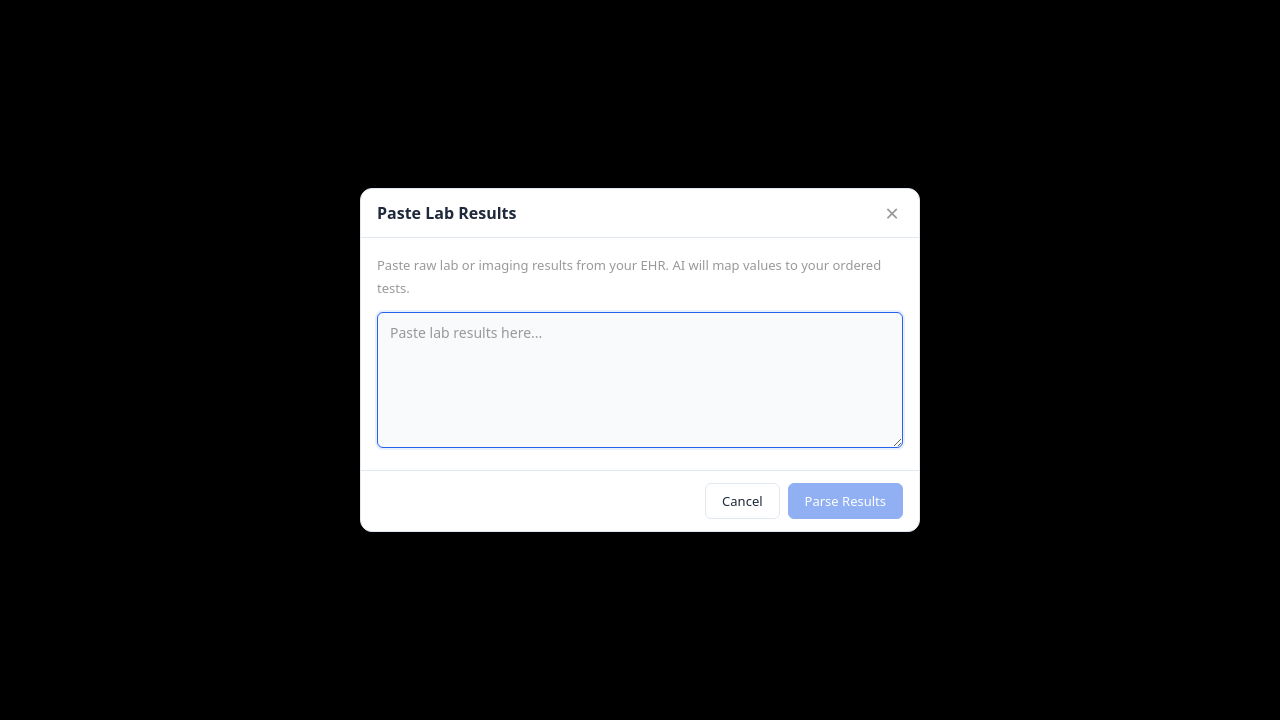
Test case: PasteLabModal › shows loading state while parsing
Type "CBC: 8500 WBC" into the text box with test id "paste-textarea" at x=640, y=380, box top-left (377, 312), bottom-right (903, 448)
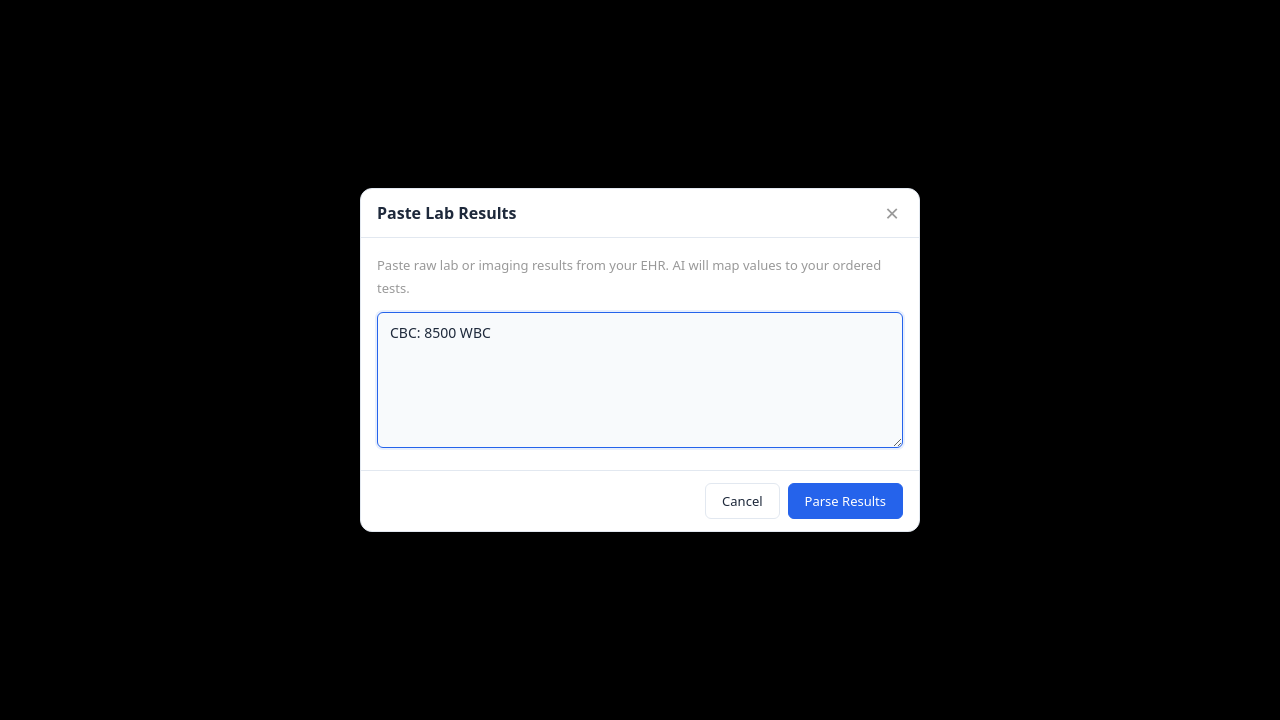
Click the button with test id "parse-btn" at x=845, y=501, box top-left (788, 483), bottom-right (903, 519)
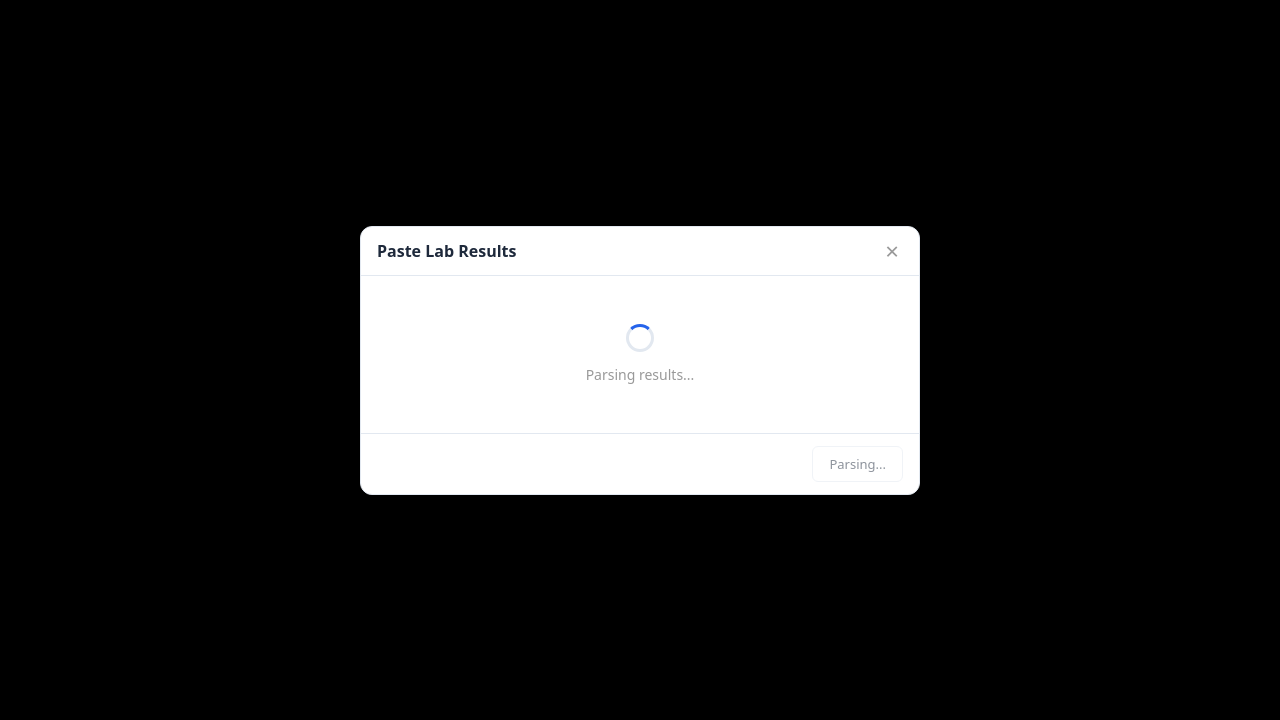
Expected: the element with test id "paste-loading" is shown, top-left (586, 324), bottom-right (694, 384)
